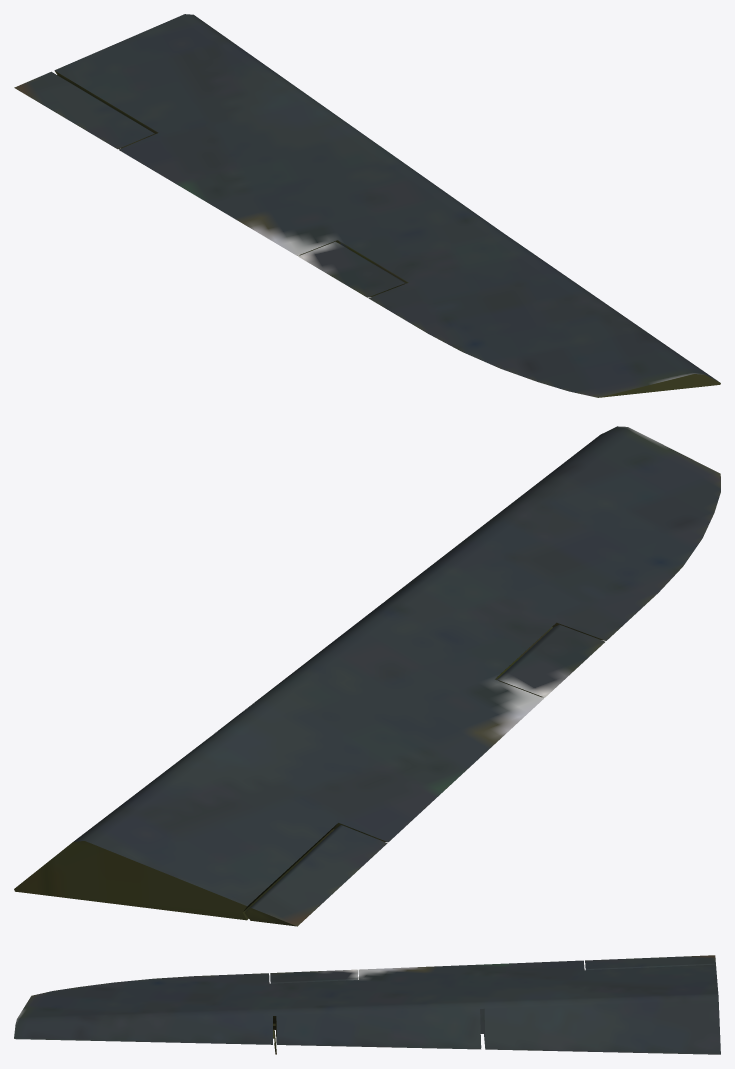
The model's file is aleronR.obj.
3 views of the same model, one above another, from view 1: azimuth 30°, elevation 25°; view 2: azimuth 150°, elevation 25°; view 3: azimuth 270°, elevation 25° (orthographic). The views are drawn at different scales.
Parts seen in each view (by area): view 1: sb2c_5_0.4594; view 2: sb2c_5_0.4594; view 3: sb2c_5_0.4594.
Boxes of the visible parts, <box> form: sb2c_5_0.4594: <box>14,14,720,397</box>; sb2c_5_0.4594: <box>14,426,720,926</box>; sb2c_5_0.4594: <box>14,955,720,1054</box>.
Size of the model in its own units: 0.7664 by 0.1928 by 2.79.
